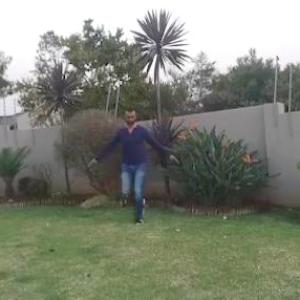land: (89, 98, 190, 226)
